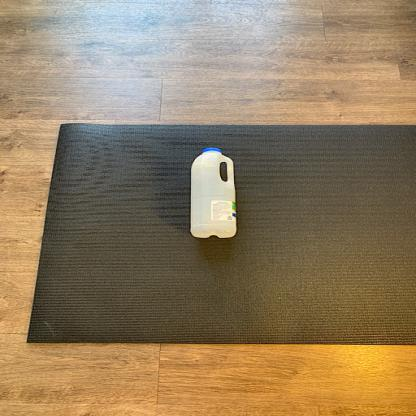trash: (186, 148, 243, 244)
